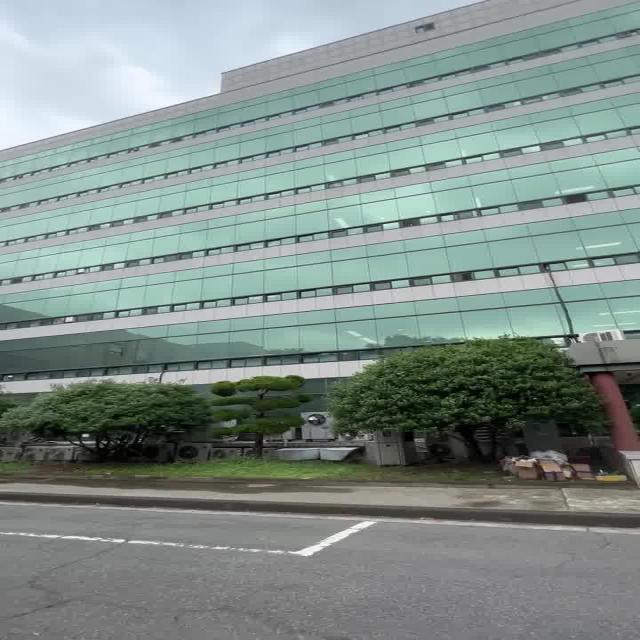building: (37, 51, 615, 321)
